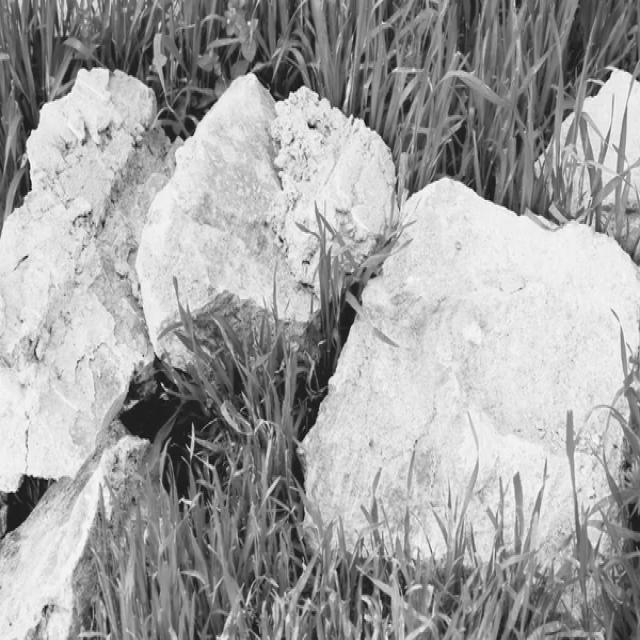Stone: (301, 179, 640, 558), (0, 69, 180, 492), (137, 73, 396, 350), (0, 421, 150, 640), (536, 68, 640, 253)
